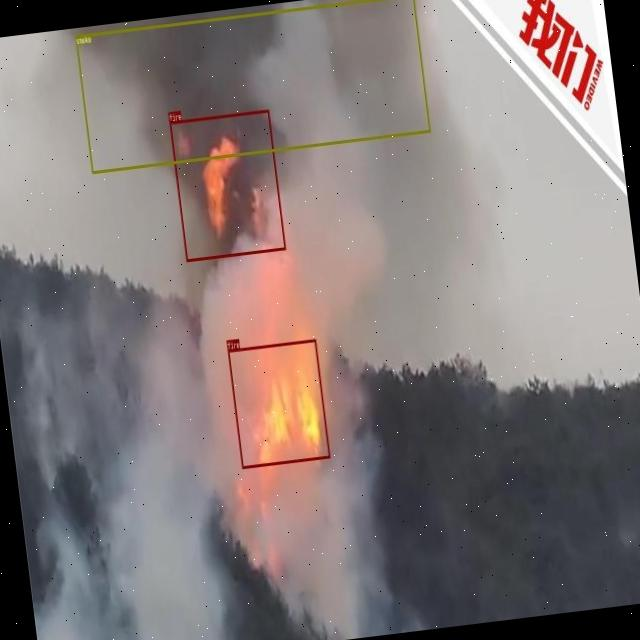fire: (169, 109, 285, 261), (227, 338, 330, 468)
smoke: (74, 0, 429, 173)
